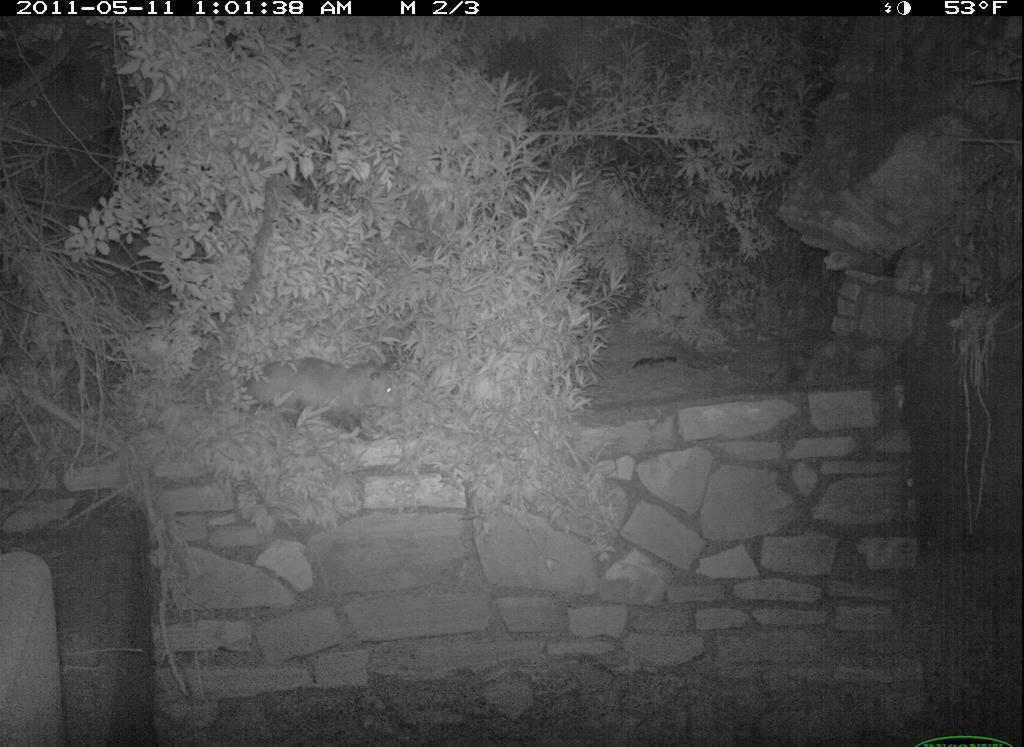opossum: (227, 350, 413, 447)
